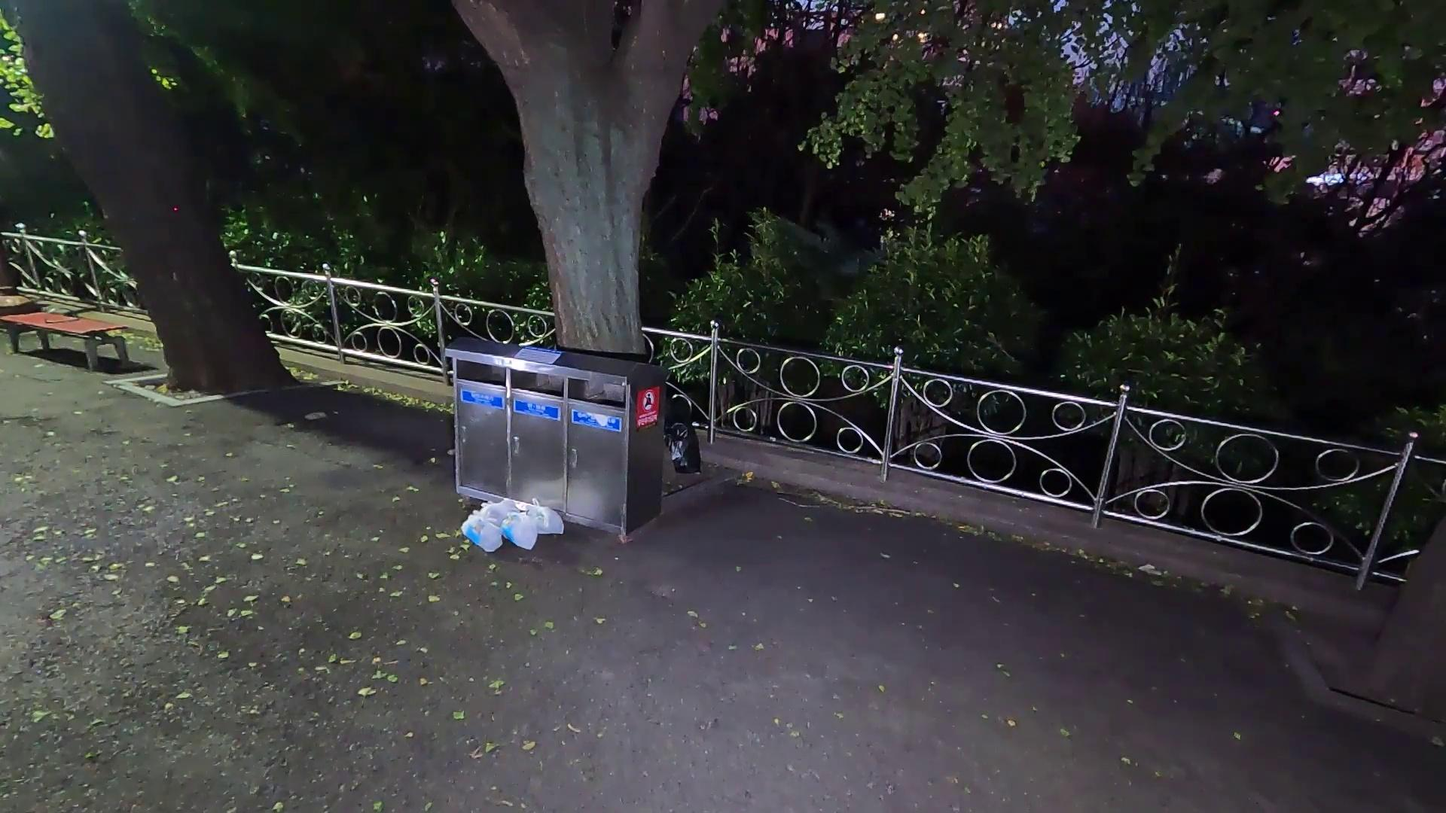trash: (517, 492, 573, 539), (669, 403, 704, 476), (499, 507, 545, 556), (458, 509, 505, 551), (479, 491, 519, 530)
